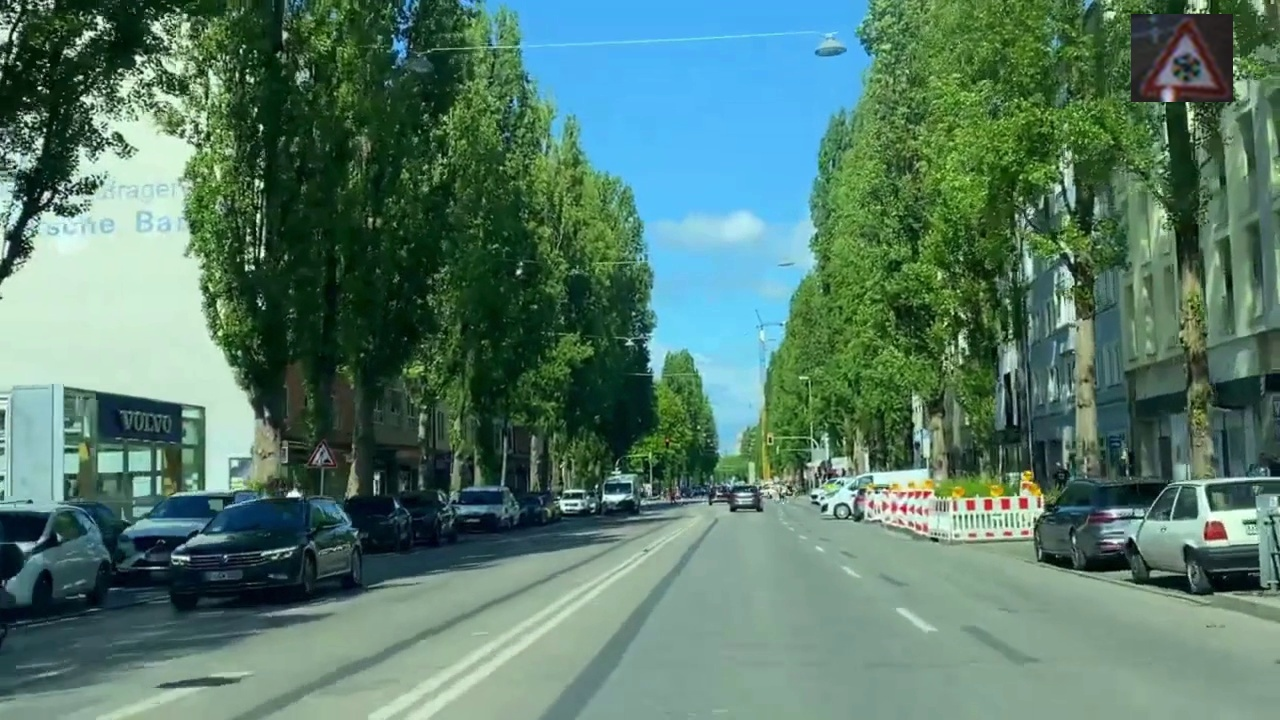Ice/snow: (1131, 14, 1233, 102)
